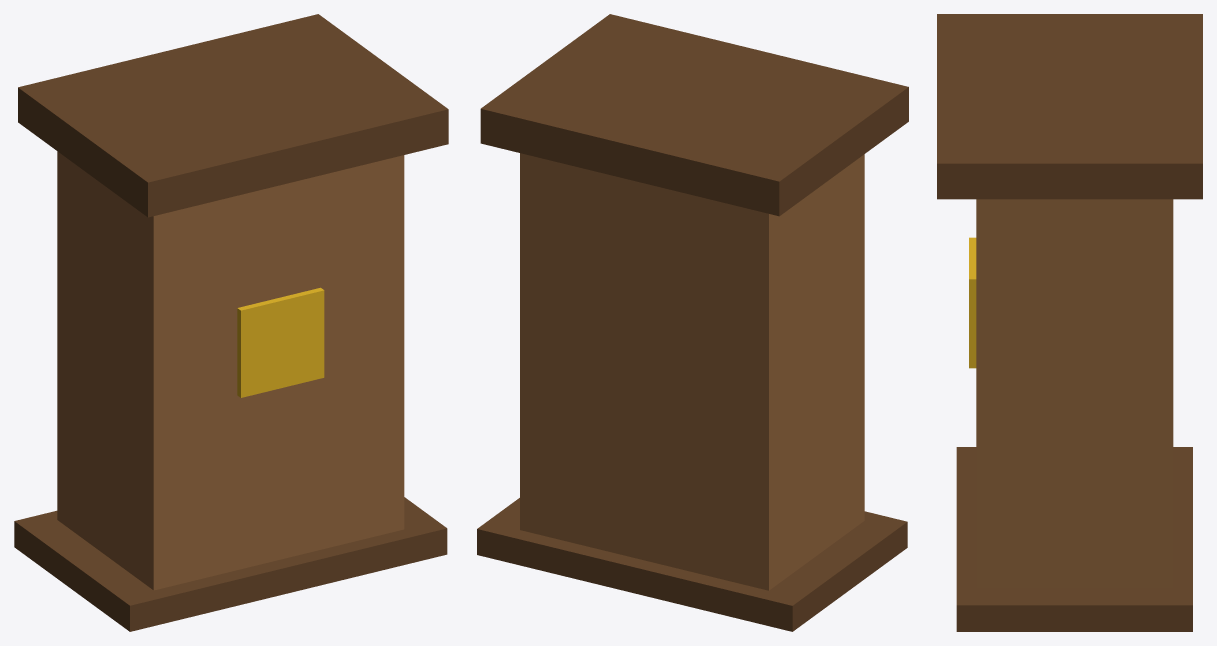
Rendered from lectern.glb.
The picture shows the model from 3 angles, left to right: view 1: azimuth 30°, elevation 25°; view 2: azimuth 150°, elevation 25°; view 3: azimuth 270°, elevation 25°; orthographic projection. The views are drawn at different scales.
Parts seen in each view (by area): view 1: lectern; view 2: lectern; view 3: lectern.
Part boxes in pixels (bbox=[...]): lectern: bbox=[14, 14, 448, 631]; lectern: bbox=[477, 14, 908, 631]; lectern: bbox=[937, 14, 1202, 631].
Bounding box in the file's own units: 0.38 × 0.52 × 0.27.
1 material, 1 textured.
